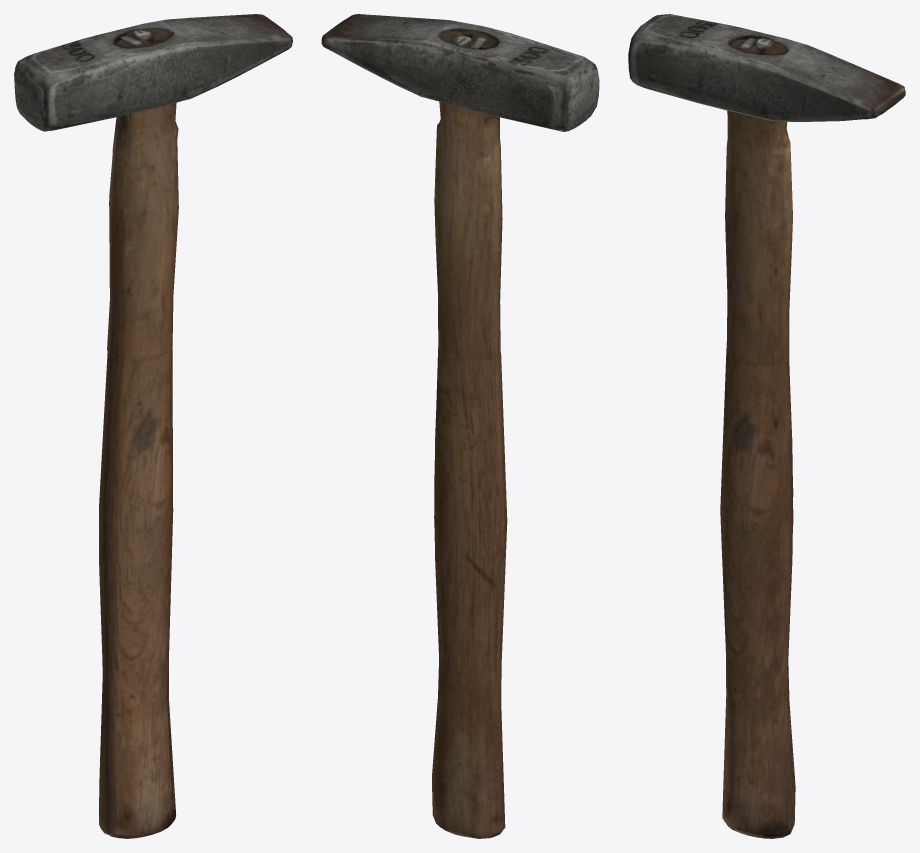
File: cross_pein_hammer.glb
3 renders of one model, left to right at view 1: azimuth 30°, elevation 25°; view 2: azimuth 150°, elevation 25°; view 3: azimuth 330°, elevation 25°, orthographic.
Parts seen in each view (by area): view 1: cross_pein_hammer; view 2: cross_pein_hammer; view 3: cross_pein_hammer.
Boxes of the visible parts, x1=… form: cross_pein_hammer: x1=14, y1=14, x2=292, y2=838; cross_pein_hammer: x1=321, y1=14, x2=599, y2=838; cross_pein_hammer: x1=628, y1=14, x2=905, y2=838.
Bounding box in the file's own units: 0.099 × 0.3001 × 0.024.
Materials: 1 (1 with a texture image).
